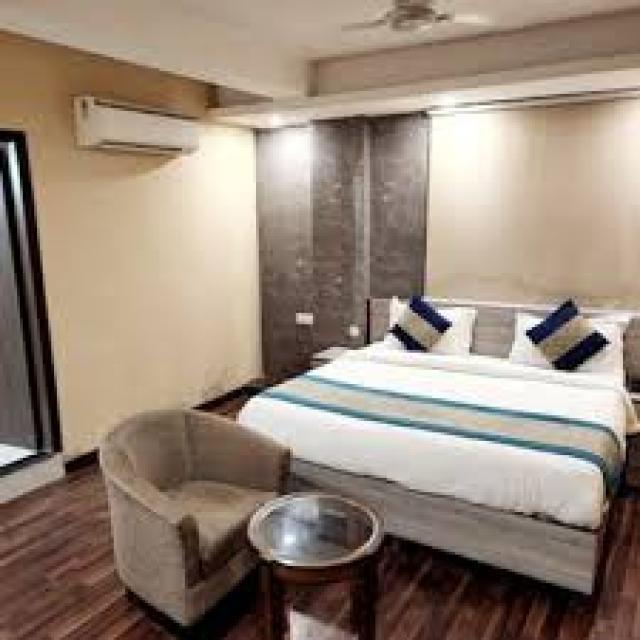bed: (233, 292, 637, 598)
sofa: (84, 402, 300, 628)
